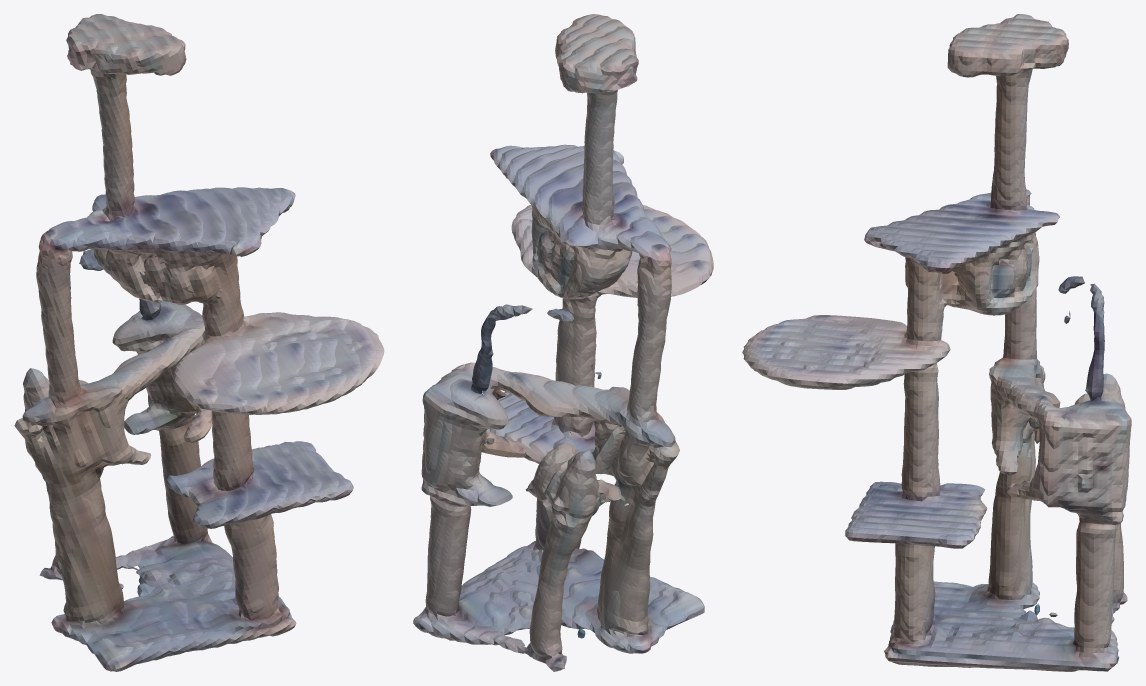
The picture shows the model from 3 angles, left to right: view 1: azimuth 30°, elevation 25°; view 2: azimuth 150°, elevation 25°; view 3: azimuth 270°, elevation 25°; orthographic projection.
Parts seen in each view (by area): view 1: world; view 2: world; view 3: world.
Part boxes in pixels (<box>): world: <box>14,14,384,671</box>; world: <box>413,14,713,671</box>; world: <box>742,14,1131,671</box>.
Size of the model in its own units: 0.535 by 1.18 by 0.7028.
